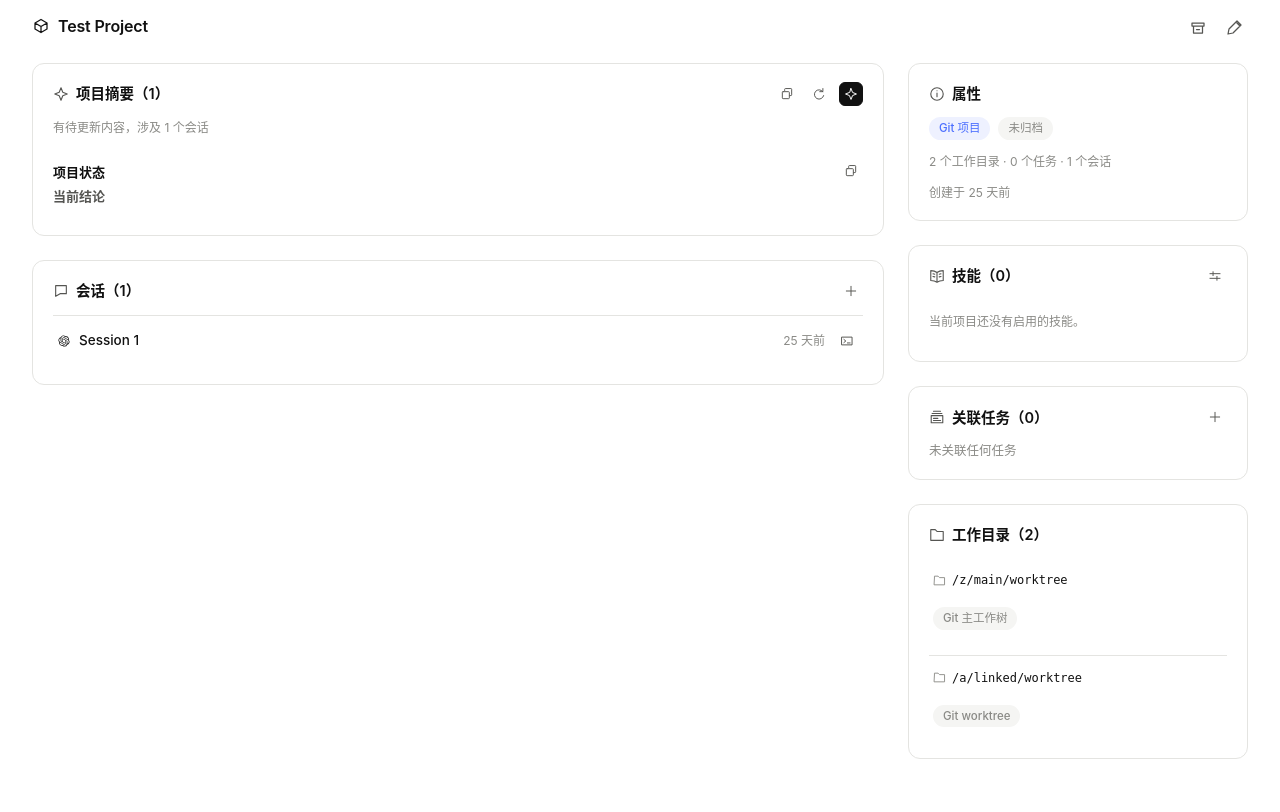
Scenario: ProjectDetail › reads structured summary topics without extracting, explicitly updates with partial feedback, and regenerates separately
The image size is (1280, 812).
Expected: the heading "项目摘要（1）" is shown, [53, 82, 169, 106]
Expected: the button named "复制摘要" is shown, [775, 82, 799, 106]
Click the button named "更新摘要".
click(851, 94)  # box [839, 82, 863, 106]
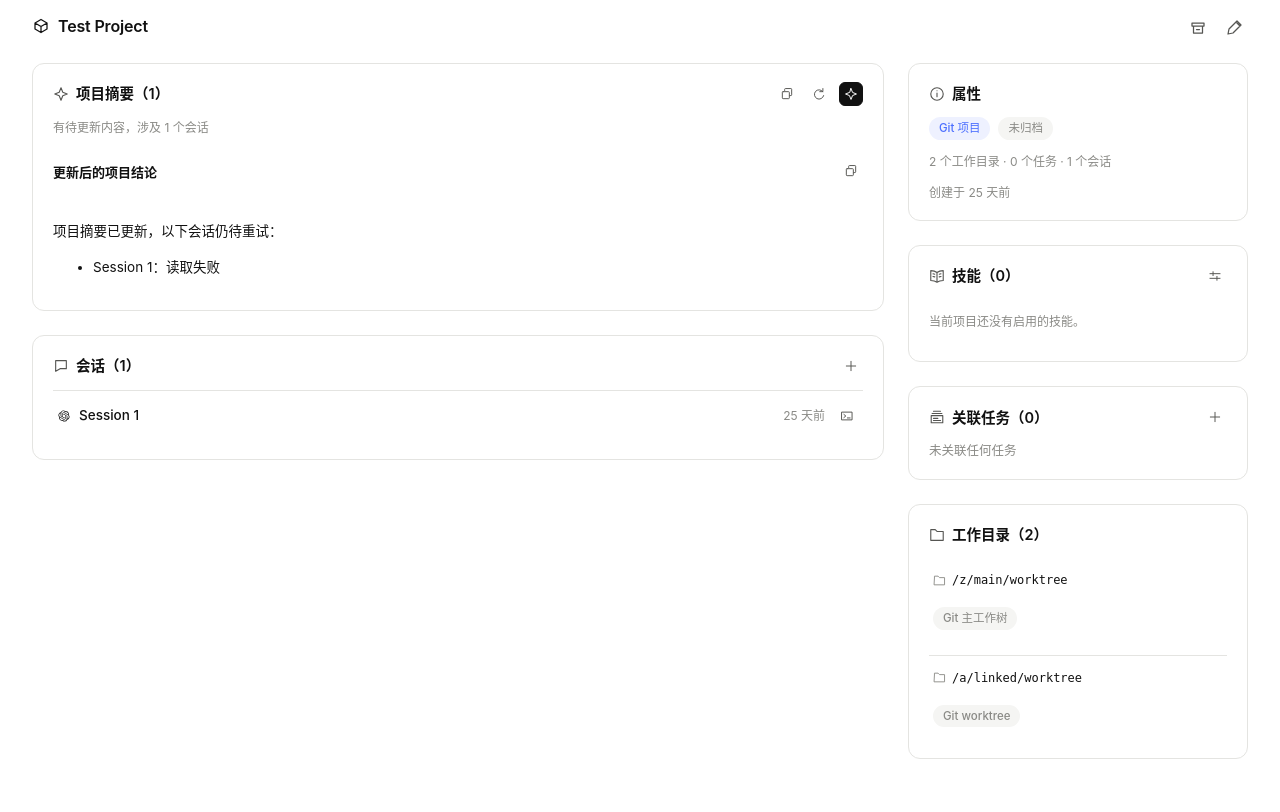
Now the heading "更新后的项目结论" is shown, box [53, 164, 157, 180]
Click the button named "重新生成".
click(819, 94)  # box [807, 82, 831, 106]
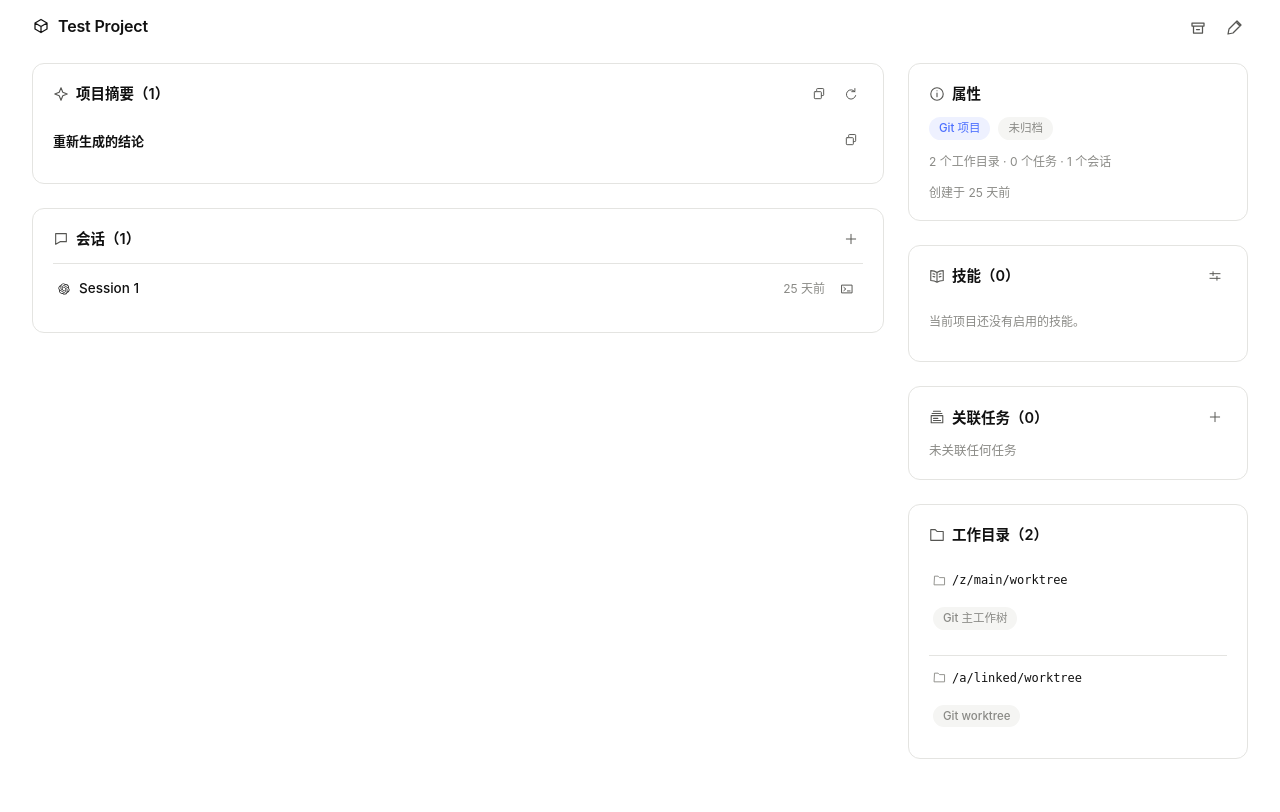
Now the heading "重新生成的结论" is shown, box [53, 133, 144, 149]
Now the message "项目摘要已更新，以下会话仍待重试： Session 1：读取失败" is gone
Now the button "更新摘要" is gone
